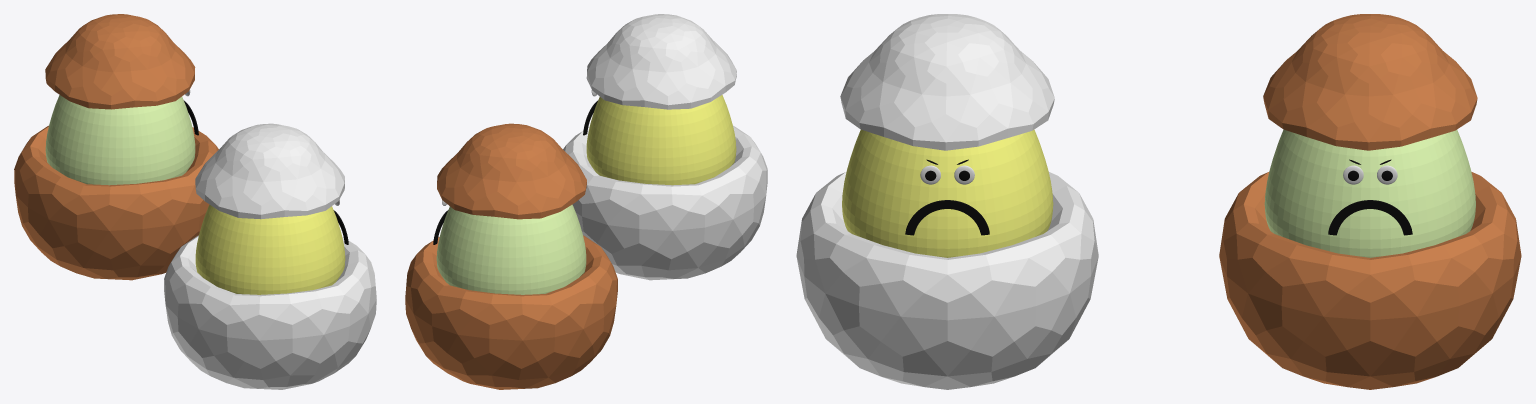
File: AngryEggsEnemy.fbx
3 views of the same model, side by side, from view 1: azimuth 30°, elevation 25°; view 2: azimuth 150°, elevation 25°; view 3: azimuth 270°, elevation 25° (orthographic). The views are drawn at different scales.
Visible parts, largest first — view 1: Icosphere, Icosphere.001; view 2: Icosphere.001, Icosphere; view 3: Icosphere, Icosphere.001.
Part boxes in pixels (<box>): Icosphere: <box>164,123,376,389</box>; Icosphere.001: <box>14,14,218,280</box>; Icosphere.001: <box>405,123,617,389</box>; Icosphere: <box>563,14,767,280</box>; Icosphere: <box>796,14,1098,389</box>; Icosphere.001: <box>1219,14,1521,389</box>.
Size of the model in its own units: 157 by 196 by 378.
